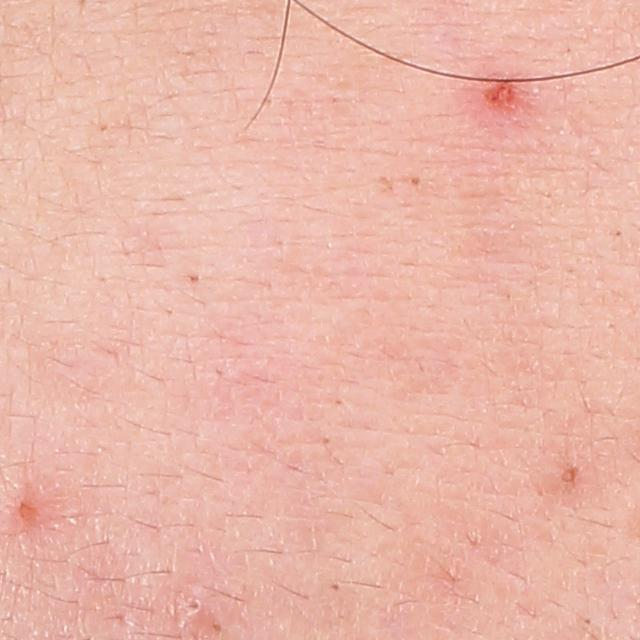comedo: (178, 588, 204, 621), (558, 462, 583, 487), (185, 272, 204, 288)
papule: (3, 484, 44, 529)
